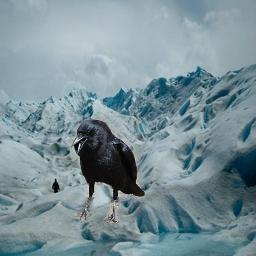Crow: (71, 119, 145, 223)
